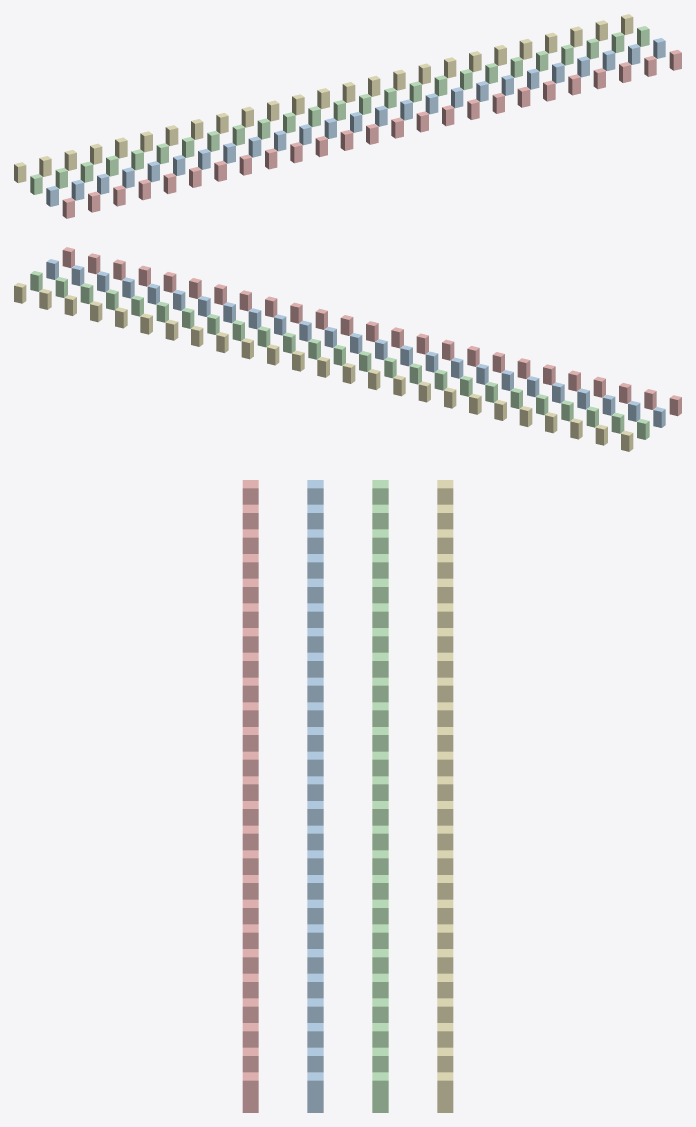
File: WAREHOUSE_MP.glb
3 views of the same model, one above another, from view 1: azimuth 30°, elevation 25°; view 2: azimuth 150°, elevation 25°; view 3: azimuth 270°, elevation 25° (orthographic). The views are drawn at different scales.
Size of the model in its own units: 43.8 by 1.1 by 6.5.
